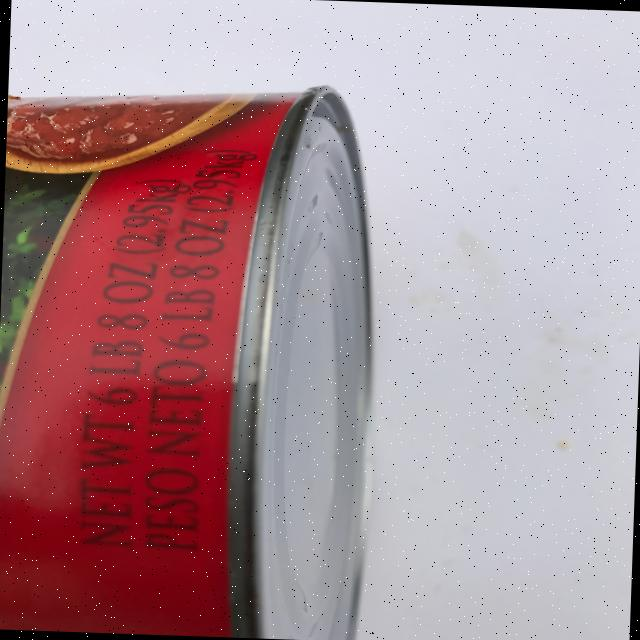metal: (0, 73, 382, 640)
